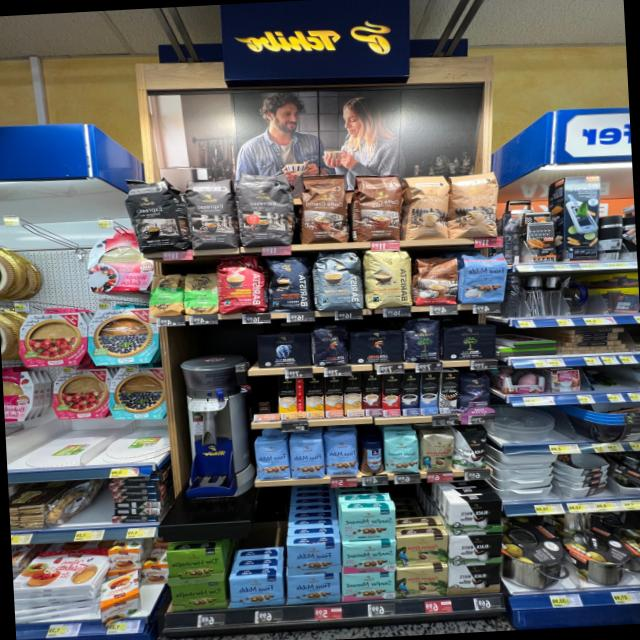AB Gemahlen: (253, 331, 315, 369)
Athiopien Bohne: (147, 273, 184, 319)
Athiopien Gemahlen: (183, 272, 219, 315)
BM Bohne: (400, 319, 444, 364)
BM Gemahlen: (442, 325, 498, 362)
BW Bohne: (455, 429, 488, 470)
BW Gemahlen: (451, 500, 504, 536), (449, 534, 502, 567), (448, 564, 502, 596)
Barista CB: (360, 248, 415, 311)
Barista CC: (308, 249, 366, 313)
Barista Espresso: (262, 254, 314, 314)
Barista Kolumbien: (213, 254, 266, 316)
C Fino Bohne: (459, 374, 494, 413)
CC Mild: (446, 169, 498, 238), (401, 174, 450, 242)
CC Vollmundig: (412, 253, 460, 306)
CC Vollmundig 36 Pads: (296, 174, 352, 245), (352, 174, 402, 242)
Colombia BB Bohne: (418, 433, 455, 472)
Colombia BB Gemahlen: (396, 534, 449, 567), (396, 566, 449, 598)
Empty Shelf: (230, 528, 286, 573), (249, 379, 280, 422)
Espresso Aromatisch: (232, 171, 296, 248), (181, 176, 242, 252)
Espresso Kraftig: (119, 176, 191, 257)
FM 36 Pads: (458, 251, 508, 305)
FM Bohne: (250, 436, 292, 482), (322, 433, 360, 478), (288, 437, 326, 481)
FM Gemahlen: (285, 542, 342, 578), (229, 575, 283, 610), (286, 573, 341, 606)
FM Instant: (358, 439, 386, 476)
Herzhatfe Mundig: (165, 547, 225, 586), (168, 581, 228, 612)
LG Bohne: (310, 323, 351, 368)
LG Gemahlen: (347, 330, 405, 365)
SM Bohne: (382, 432, 421, 475)
SM Gemahlen: (340, 509, 395, 542), (342, 541, 397, 574), (341, 571, 396, 603)
Simo CCMild: (276, 377, 305, 421)
Simo CCMild bigpack: (305, 375, 325, 419)
Simo CCVollmundig bigpack: (323, 376, 343, 418)
Simo Decaff: (343, 374, 363, 416)
Simo Es Brazil: (382, 373, 402, 416)
Simo Es Caramel: (361, 373, 384, 417)
Simo Es Elegant: (440, 371, 459, 414)
Simo Es Kraft: (401, 372, 421, 416)
Simo Es Vanilla: (420, 371, 440, 415)
